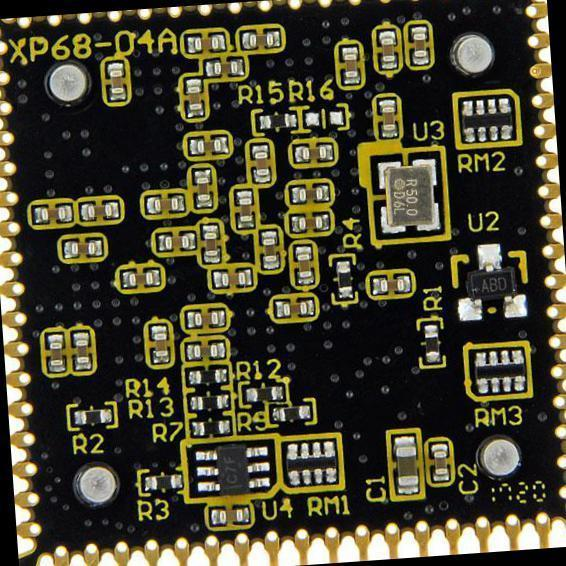Capacitor: (385, 430, 424, 499), (426, 439, 452, 486)
Connector: (47, 509, 555, 565), (0, 34, 46, 543), (519, 0, 565, 506), (9, 0, 520, 32)
IC: (364, 144, 449, 243), (447, 239, 529, 325), (183, 435, 281, 501)
Pads: (302, 103, 351, 132)
Resistor: (464, 342, 531, 403), (452, 90, 519, 149), (280, 434, 343, 490), (68, 402, 117, 429), (250, 107, 297, 134), (330, 255, 356, 303), (139, 467, 185, 494), (184, 389, 232, 414), (240, 381, 288, 405), (185, 363, 231, 388), (267, 402, 313, 427), (186, 416, 234, 437)
